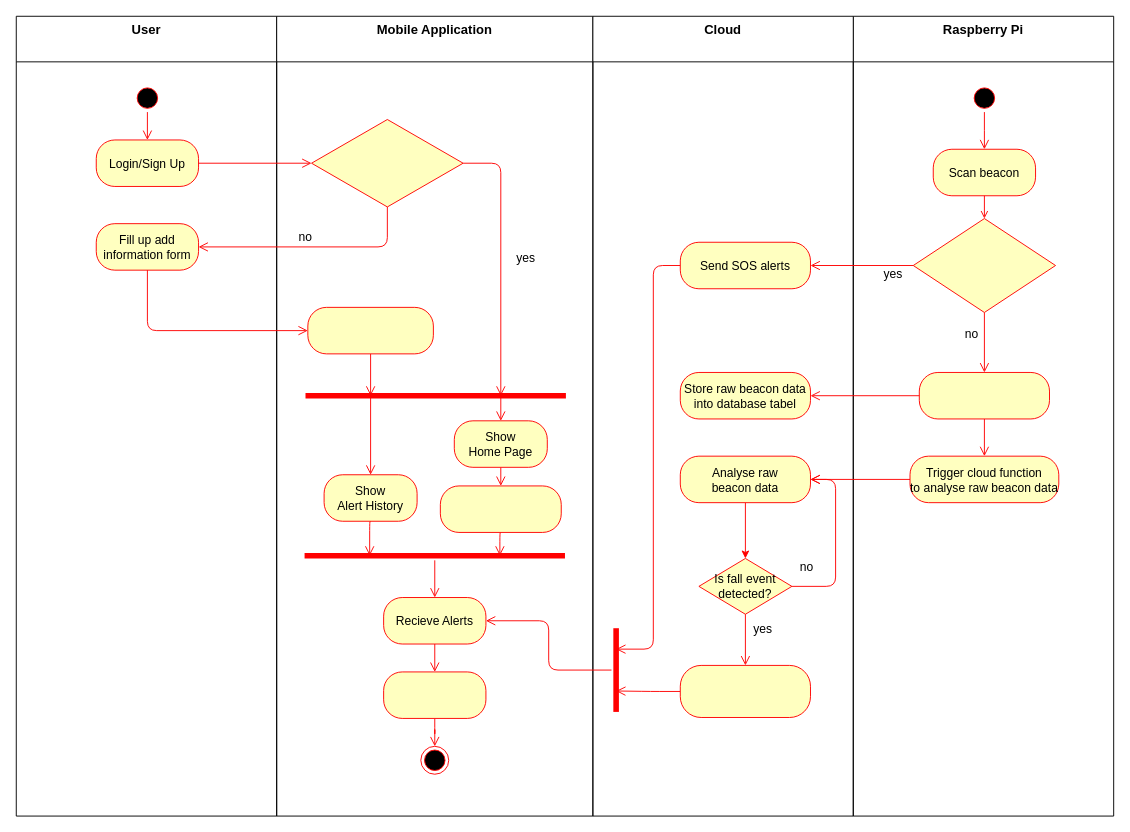
Image size: 1130x832. Some labels were removed from this diagram. The centre of each missing label's shape, as x and y in pixels:
Dismiss Alerts: (434,694)
is Eddystone-UID BLE signal found?: (984,265)
Is senior citizen's information found in database?: (387,163)
Save information to the cloud database: (370,330)
Send fall alerts: (744,690)
Send raw beacon data to the cloud database: (984,395)
Show senior citizen's current location: (500,508)
